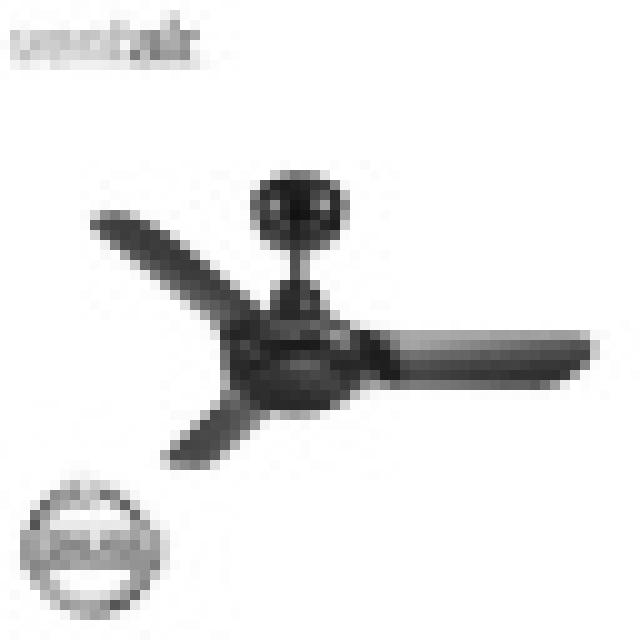Bulb: (92, 192, 606, 520)
